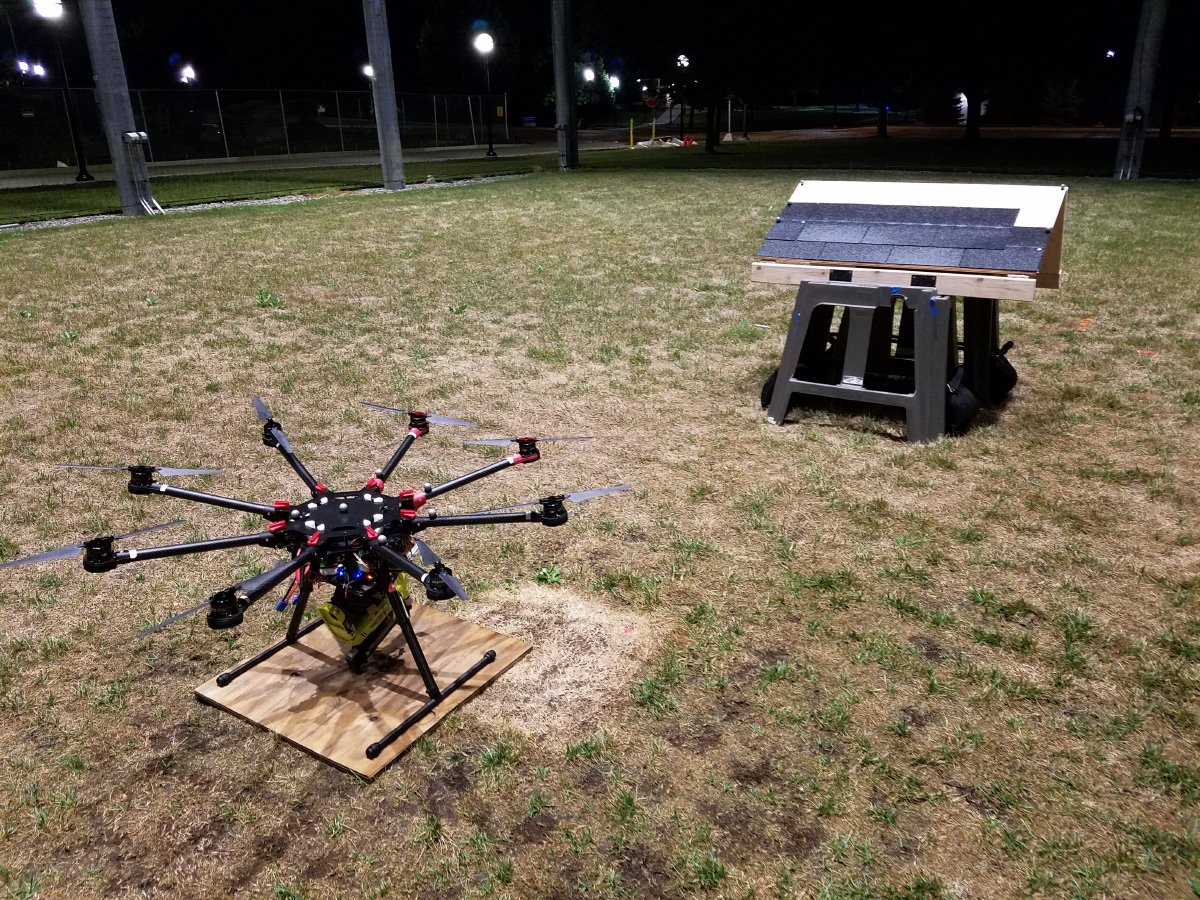drone: (1, 388, 630, 765)
